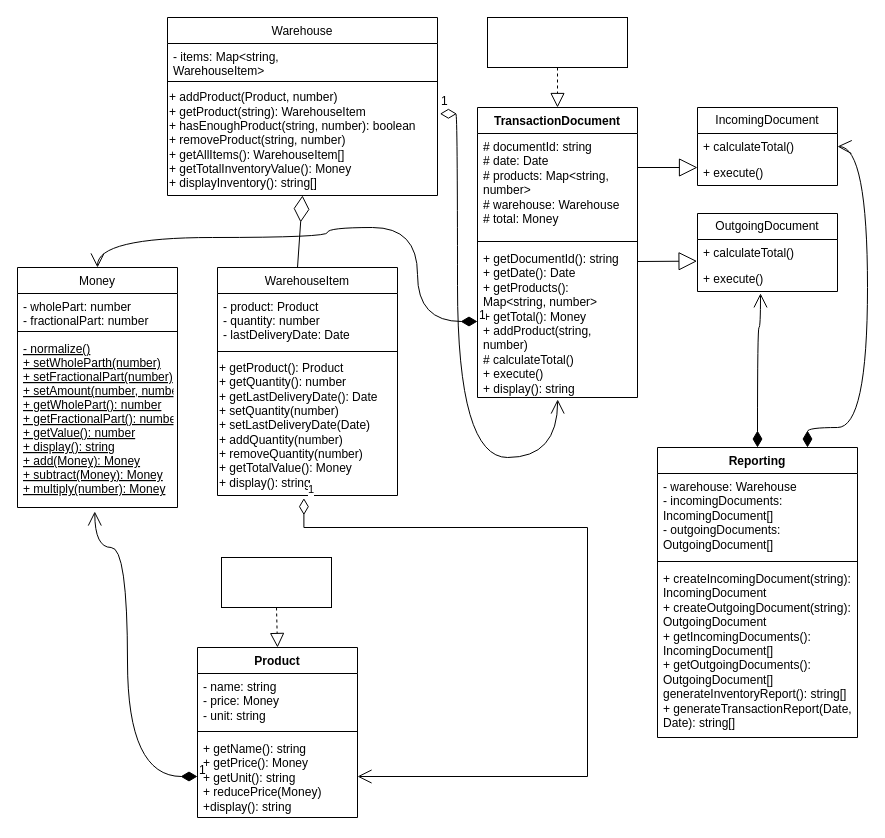
The diagram is 885 pixels wide and 838 high, and some of its shapes have lost their labels. The centre of each missing label's shape, as x and y in pixels:
"«interface» IProduct" belongs at point (276, 582).
"«interface» ITransactionDocument" belongs at point (557, 42).
